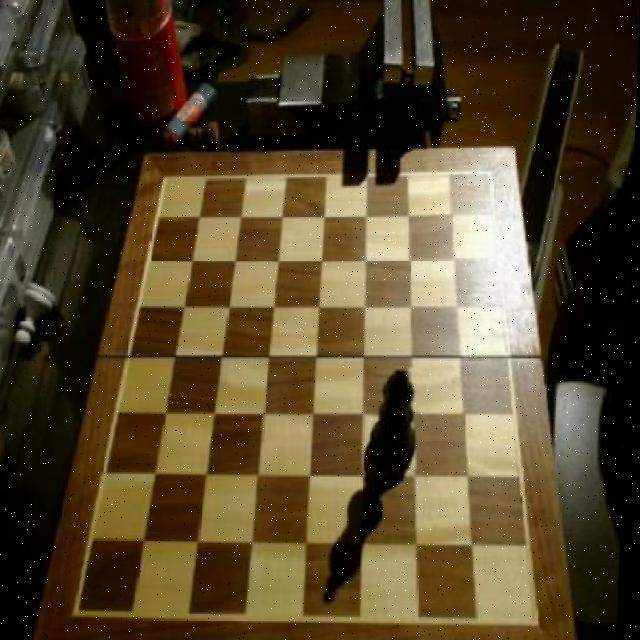black-bishop: (374, 369, 425, 472)
